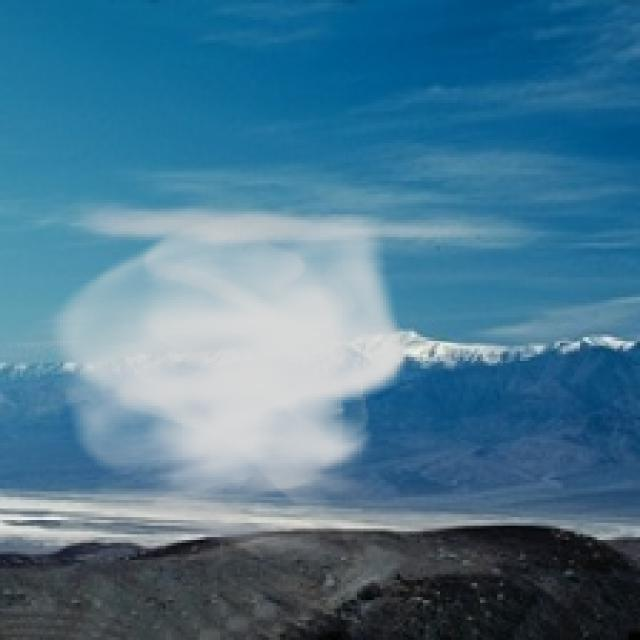Smoke: (39, 203, 412, 566)
